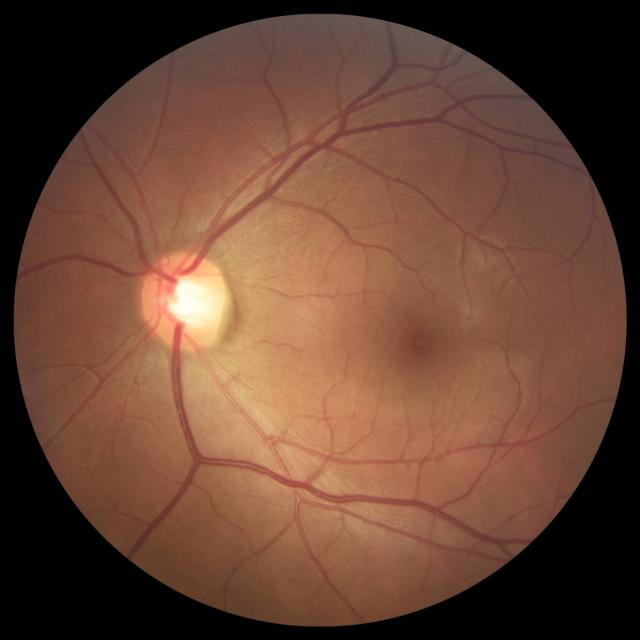OC: (161, 272, 215, 328)
OD: (140, 251, 229, 350)
